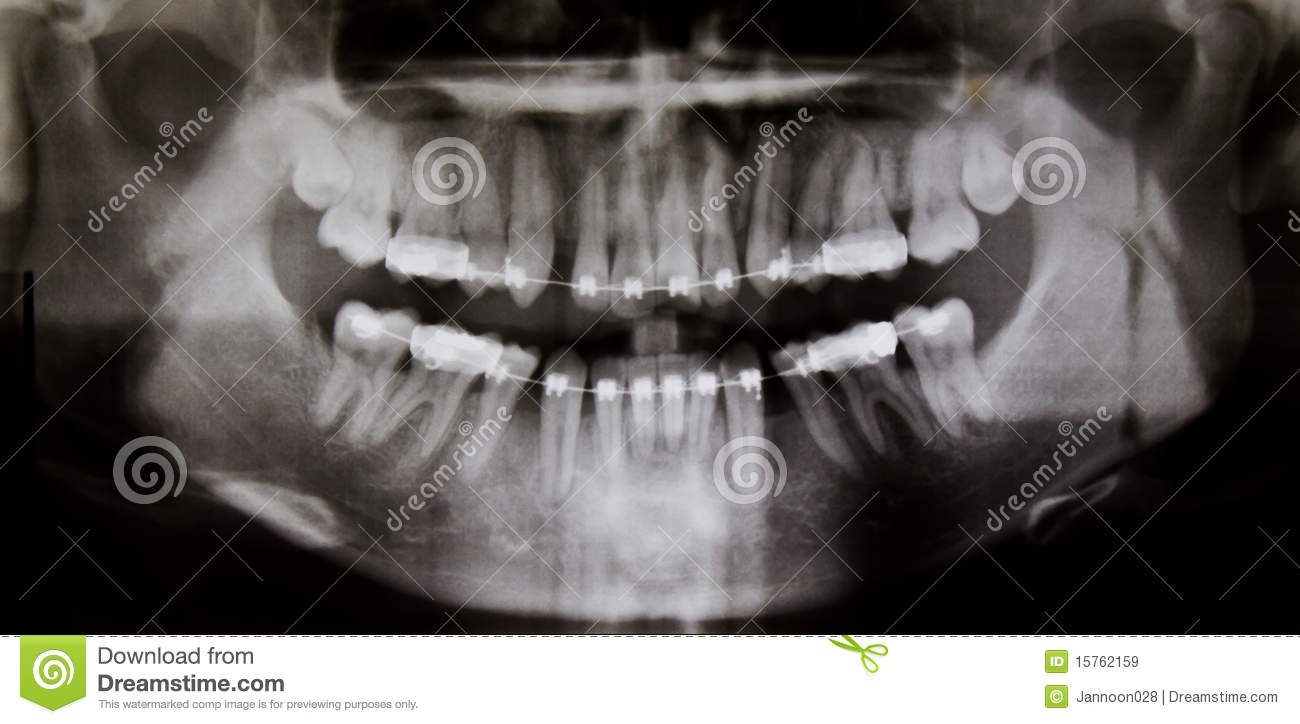canine: (509, 127, 563, 305), (744, 138, 790, 298), (720, 344, 771, 487), (541, 348, 588, 494)
incisor: (653, 144, 702, 312), (612, 150, 657, 318), (695, 158, 743, 313), (574, 160, 617, 319), (588, 345, 631, 482), (625, 338, 659, 482), (657, 342, 691, 479), (692, 345, 720, 481)
molar: (895, 297, 1001, 438), (326, 287, 410, 452), (322, 117, 401, 270), (904, 119, 983, 270), (961, 118, 1031, 225), (294, 120, 358, 209)
